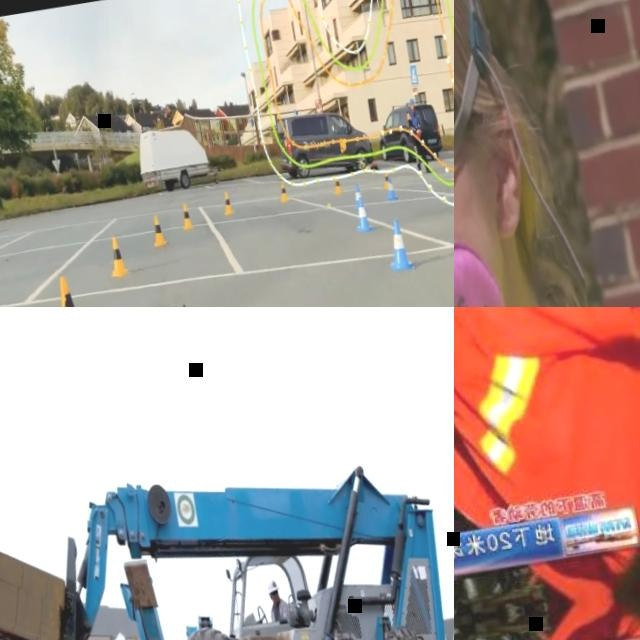Hardhat: (263, 575, 280, 593)
Mask: (454, 161, 541, 307)
NO-Hardhat: (408, 96, 415, 103)
NO-Mask: (271, 593, 279, 601), (410, 105, 414, 111)
NO-Safety Vest: (268, 596, 289, 621), (407, 109, 420, 131)
Person: (454, 0, 640, 307), (454, 307, 640, 611), (454, 569, 640, 640), (404, 96, 430, 174), (263, 573, 290, 621)
Safety Cone: (380, 216, 413, 272), (50, 271, 83, 307), (103, 231, 127, 277), (149, 212, 167, 248), (354, 197, 372, 231), (218, 186, 234, 217), (178, 199, 193, 231), (383, 172, 397, 201), (351, 182, 365, 207), (276, 178, 289, 203), (381, 164, 393, 191), (331, 171, 342, 194)
Safety Vest: (454, 307, 640, 579)
machinery: (0, 423, 454, 640)
vehicle: (0, 245, 454, 307), (271, 99, 377, 182), (372, 92, 443, 161)
